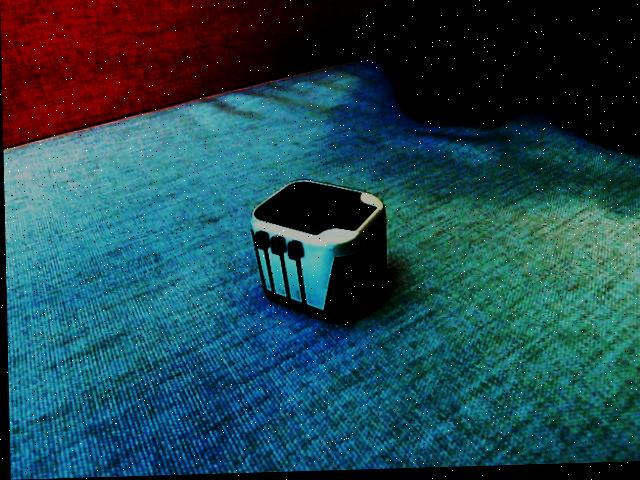adapter: (248, 180, 387, 328)
